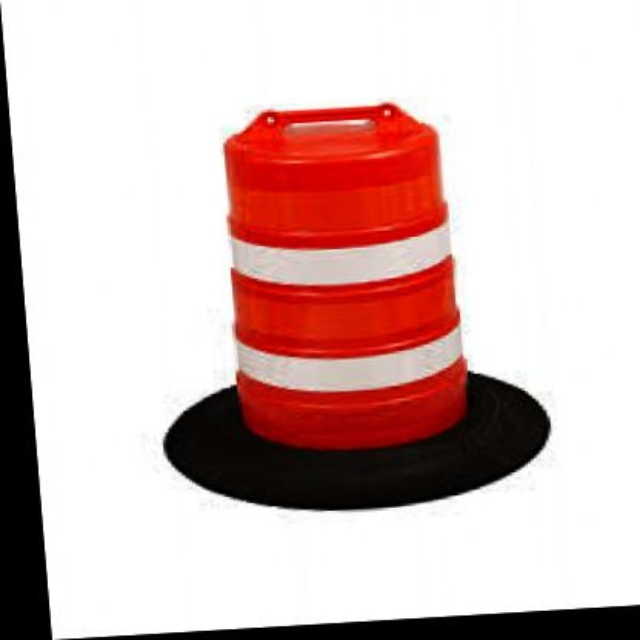obstacle: (195, 88, 486, 479)
